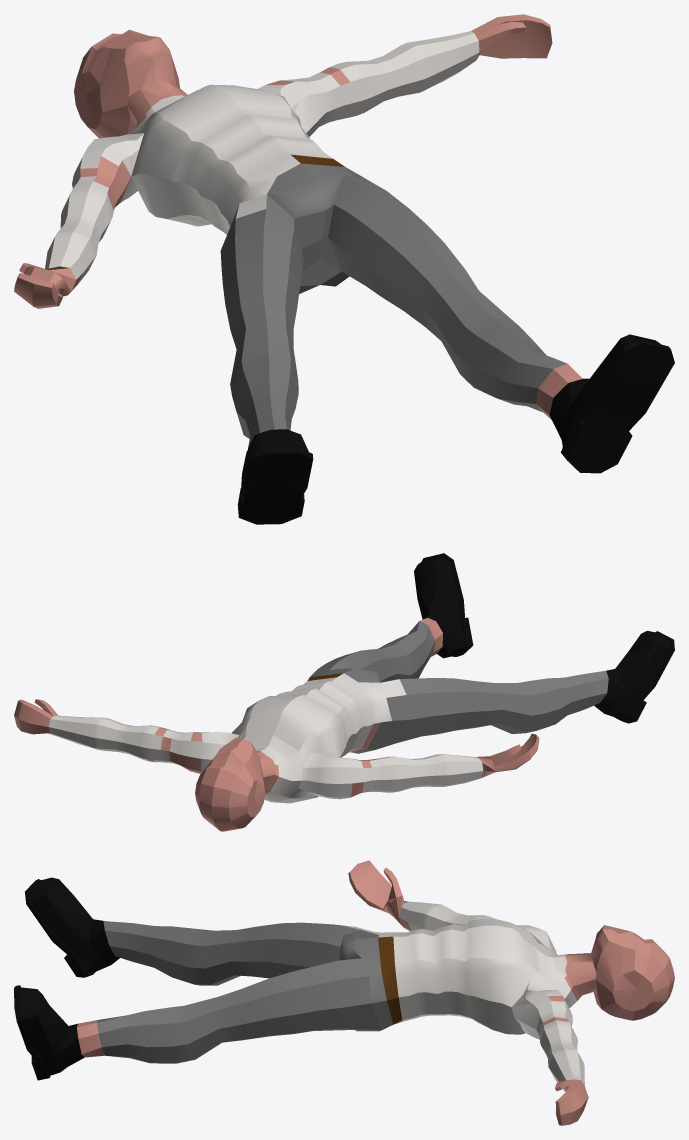
The model's file is dead_body_1.fbx.
The picture shows the model from 3 angles, top to bottom: view 1: azimuth 30°, elevation 25°; view 2: azimuth 150°, elevation 25°; view 3: azimuth 270°, elevation 25°; orthographic projection. The views are drawn at different scales.
Visible parts, largest first — view 1: pCone15; view 2: pCone15; view 3: pCone15.
Boxes of the visible parts, x1,y1,x2,y2 form: pCone15: (14, 14, 674, 524); pCone15: (14, 553, 674, 831); pCone15: (14, 860, 674, 1125).
Size of the model in its own units: 11.05 by 2.82 by 12.91.
